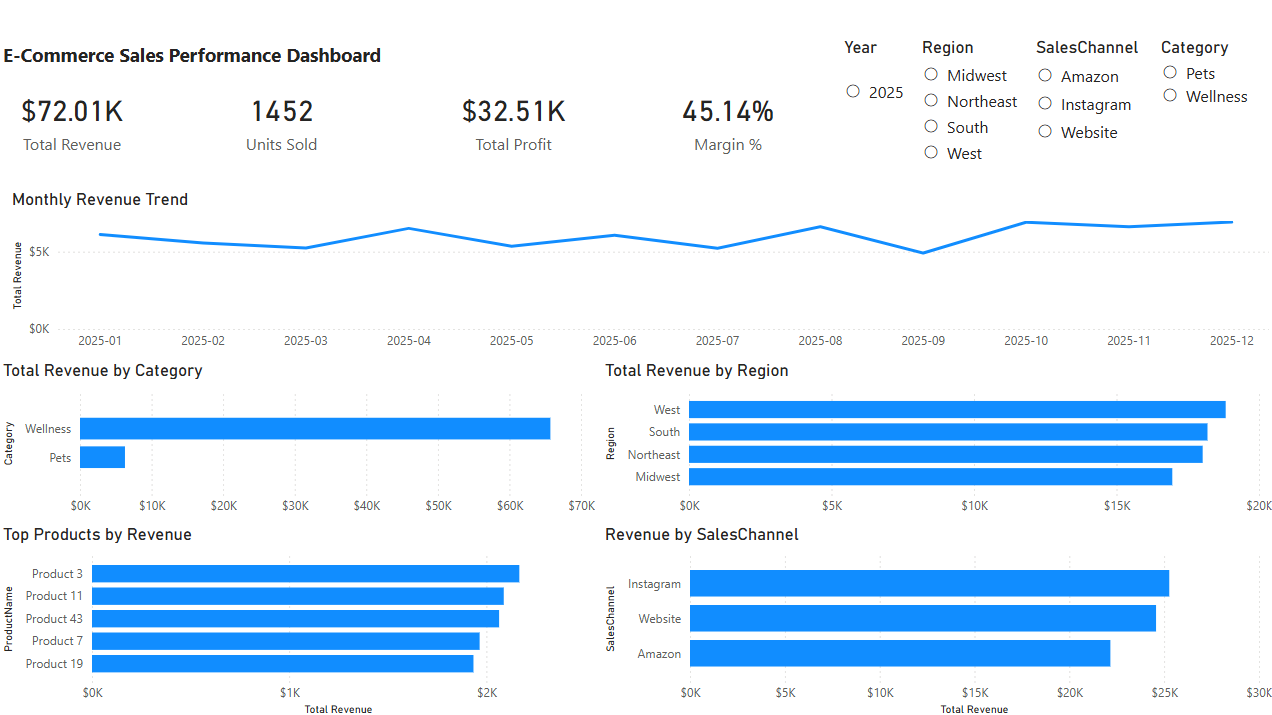

The dashboard page shown, as its layout file describes it:
{"tool":"powerbi","page":{"name":"Page 1","canvas":[1280,720],"ordinal":0},"visuals":[{"type":"card","fields":{"Values":["rpt vw_Sales_Executive.Total Revenue"]},"box":[0,67.4,147.5,105.7],"z":0},{"type":"card","fields":{"Values":["rpt vw_Sales_Executive.Units Sold"]},"box":[177.7,67.4,211.4,105.7],"z":1000},{"type":"card","fields":{"Values":["rpt vw_Sales_Executive.Total Profit"]},"box":[428.6,67.4,173.1,105.7],"z":2000},{"type":"card","fields":{"Values":["rpt vw_Sales_Executive.Margin %"]},"box":[640,67.4,180,105.7],"z":3000},{"type":"lineChart","title":"Revenue Trend","fields":{"Category":["rpt vw_Sales_Executive.YearMonth"],"Y":["rpt vw_Sales_Executive.Total Revenue"]},"box":[9.3,190.5,1270.7,169.6],"z":4000},{"type":"clusteredBarChart","fields":{"Category":["rpt vw_Sales_Executive.Category"],"Y":["rpt vw_Sales_Executive.Total Revenue"]},"box":[0,360.1,601.7,163.8],"z":5000},{"type":"clusteredBarChart","fields":{"Category":["rpt vw_Sales_Executive.Region"],"Y":["rpt vw_Sales_Executive.Total Revenue"]},"box":[601.7,360.1,678.3,163.8],"z":6000},{"type":"barChart","title":"Top Products by Revenue","fields":{"Category":["rpt vw_Sales_Executive.ProductName"],"Y":["rpt vw_Sales_Executive.Total Revenue"]},"box":[0,523.8,601.7,196.3],"z":7000},{"type":"listSlicer","fields":{"Values":["rpt vw_Sales_Executive.Region"]},"box":[918.8,38.3,113.8,134.7],"z":8000},{"type":"listSlicer","fields":{"Values":["rpt vw_Sales_Executive.SalesChannel"]},"box":[1032.6,38.3,124.3,113.8],"z":9000},{"type":"listSlicer","fields":{"Values":["rpt vw_Sales_Executive.Category"]},"box":[1158,38.3,122,75.5],"z":10000},{"type":"listSlicer","fields":{"Values":["rpt vw_Sales_Executive.Year"]},"box":[840.9,38.3,77.8,88.3],"z":11000},{"type":"barChart","fields":{"Category":["rpt vw_Sales_Executive.SalesChannel"],"Y":["rpt vw_Sales_Executive.Total Revenue"]},"box":[602,524,678,196],"z":11001},{"type":"textbox","box":[0,38.3,449.5,36],"z":11002}]}

Visuals, with their boxes in screenshot pixels (x1, y1, x2, y2), scaled from the page's 1280x720 canvas onto the 1272x715 screenshot:
card - rpt vw_Sales_Executive.Total Revenue: [x1=0, y1=67, x2=147, y2=172]
card - rpt vw_Sales_Executive.Units Sold: [x1=177, y1=67, x2=387, y2=172]
card - rpt vw_Sales_Executive.Total Profit: [x1=426, y1=67, x2=598, y2=172]
card - rpt vw_Sales_Executive.Margin %: [x1=636, y1=67, x2=815, y2=172]
"Revenue Trend" lineChart: [x1=9, y1=189, x2=1271, y2=358]
clusteredBarChart - rpt vw_Sales_Executive.Category x rpt vw_Sales_Executive.Total Revenue: [x1=0, y1=358, x2=598, y2=520]
clusteredBarChart - rpt vw_Sales_Executive.Region x rpt vw_Sales_Executive.Total Revenue: [x1=598, y1=358, x2=1271, y2=520]
"Top Products by Revenue" barChart: [x1=0, y1=520, x2=598, y2=714]
listSlicer - rpt vw_Sales_Executive.Region: [x1=913, y1=38, x2=1026, y2=172]
listSlicer - rpt vw_Sales_Executive.SalesChannel: [x1=1026, y1=38, x2=1150, y2=151]
listSlicer - rpt vw_Sales_Executive.Category: [x1=1151, y1=38, x2=1271, y2=113]
listSlicer - rpt vw_Sales_Executive.Year: [x1=836, y1=38, x2=913, y2=126]
barChart - rpt vw_Sales_Executive.SalesChannel x rpt vw_Sales_Executive.Total Revenue: [x1=598, y1=520, x2=1271, y2=714]
textbox: [x1=0, y1=38, x2=447, y2=74]
